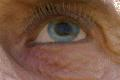eye: (50, 19, 79, 41)
